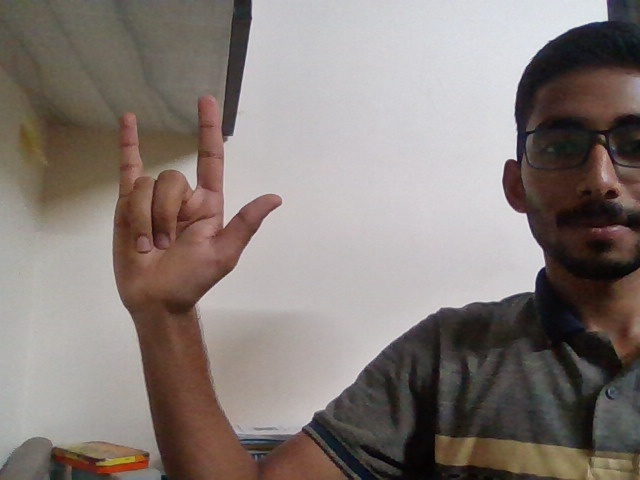Enjoy: (86, 85, 297, 343)
